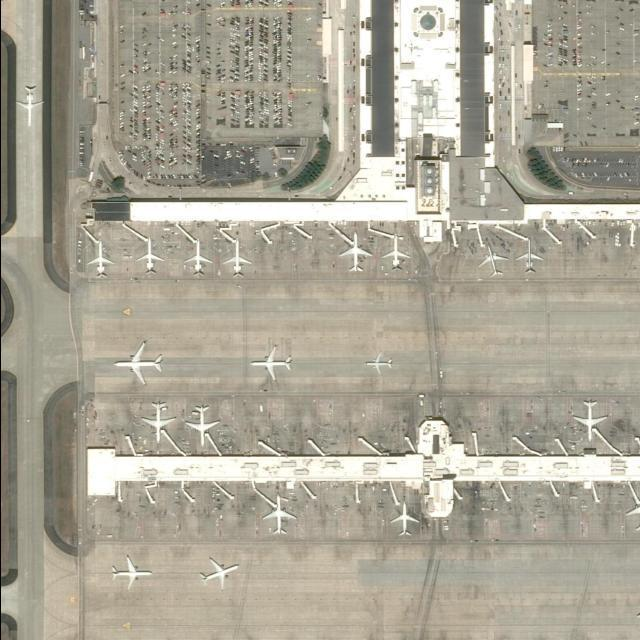Aircraft: (111, 340, 162, 382), (570, 398, 606, 440), (251, 346, 293, 380), (110, 555, 152, 589), (263, 494, 296, 536), (141, 402, 175, 442), (198, 557, 240, 589), (339, 231, 371, 271), (187, 404, 218, 445), (15, 86, 42, 128), (222, 238, 250, 278), (135, 236, 163, 276), (382, 233, 410, 271), (87, 239, 115, 277), (389, 502, 418, 538), (183, 238, 211, 275), (516, 237, 543, 275), (478, 244, 507, 278), (364, 352, 392, 374), (626, 491, 640, 534)
